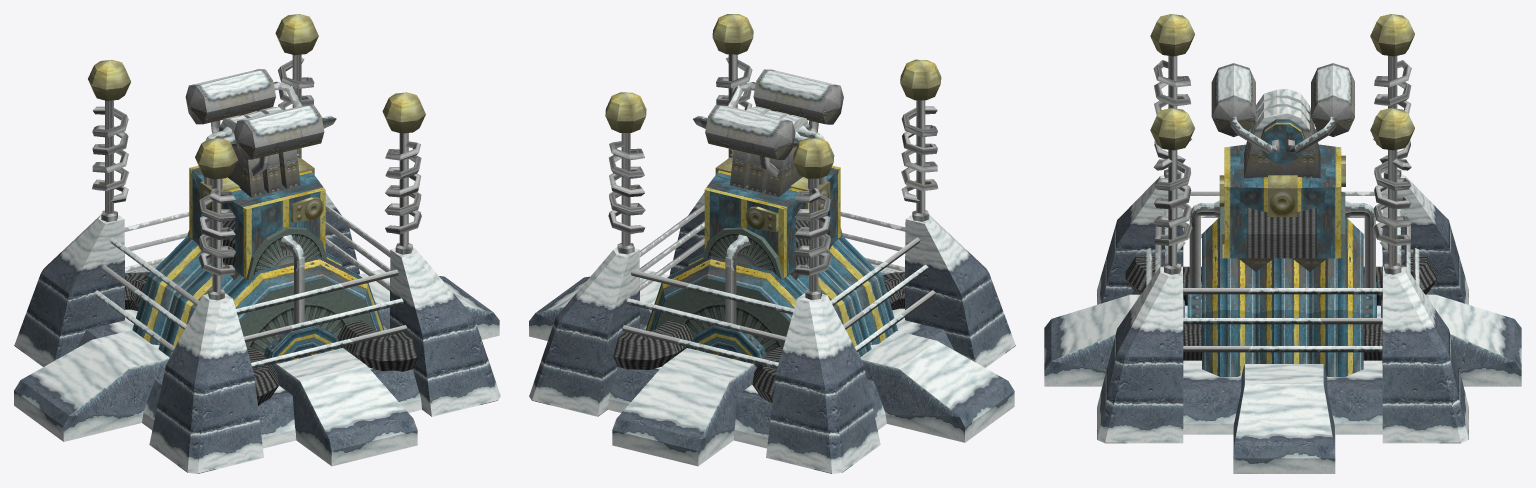
Rendered from C1SMXLVGENERATOR.bgf.obj.
3 views of the same model, side by side, from view 1: azimuth 30°, elevation 25°; view 2: azimuth 150°, elevation 25°; view 3: azimuth 270°, elevation 25° (orthographic). The views are drawn at different scales.
Visible parts, largest first — view 1: OBJECT02, FRAG03, FRAG01, FRAG04, FRAG07, FRAG02, FRAG05; view 2: OBJECT02, FRAG03, FRAG01, FRAG02, FRAG04, FRAG05, FRAG07; view 3: OBJECT02, FRAG03, FRAG05, FRAG01, FRAG04, FRAG02, FRAG07.
Boxes of the visible parts, <box> form: OBJECT02: <box>14,157,500,473</box>; FRAG03: <box>185,14,412,276</box>; FRAG01: <box>88,58,324,159</box>; FRAG04: <box>101,81,421,234</box>; FRAG07: <box>204,115,398,329</box>; FRAG02: <box>92,92,425,300</box>; FRAG05: <box>211,54,301,188</box>; OBJECT02: <box>529,157,1015,473</box>; FRAG03: <box>605,54,938,264</box>; FRAG01: <box>608,69,843,233</box>; FRAG02: <box>712,14,929,275</box>; FRAG04: <box>693,57,941,300</box>; FRAG05: <box>617,106,778,329</box>; FRAG07: <box>765,115,905,266</box>; OBJECT02: <box>1044,144,1521,473</box>; FRAG03: <box>1153,60,1414,274</box>; FRAG05: <box>1244,106,1401,287</box>; FRAG01: <box>1211,14,1414,252</box>; FRAG04: <box>1150,14,1401,251</box>; FRAG02: <box>1150,55,1411,179</box>; FRAG07: <box>1164,88,1320,287</box>.
Size of the model in its own units: 25.76 by 16.64 by 23.78.
8 materials, 8 textured.
